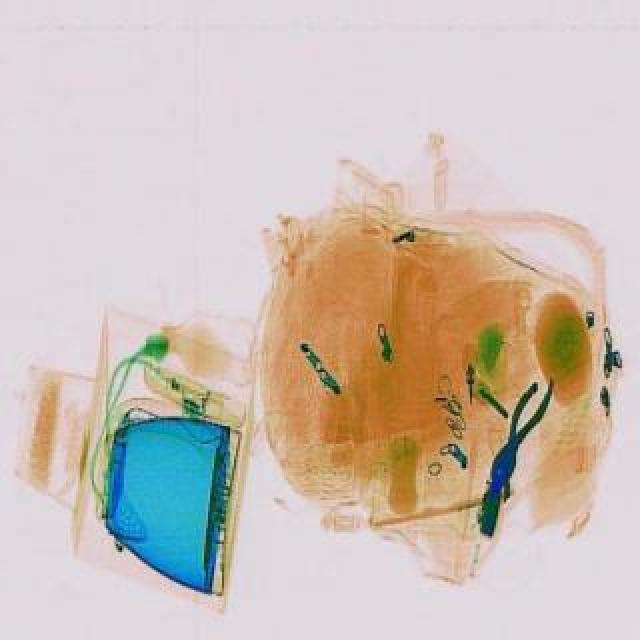wrench: (484, 370, 558, 490)
